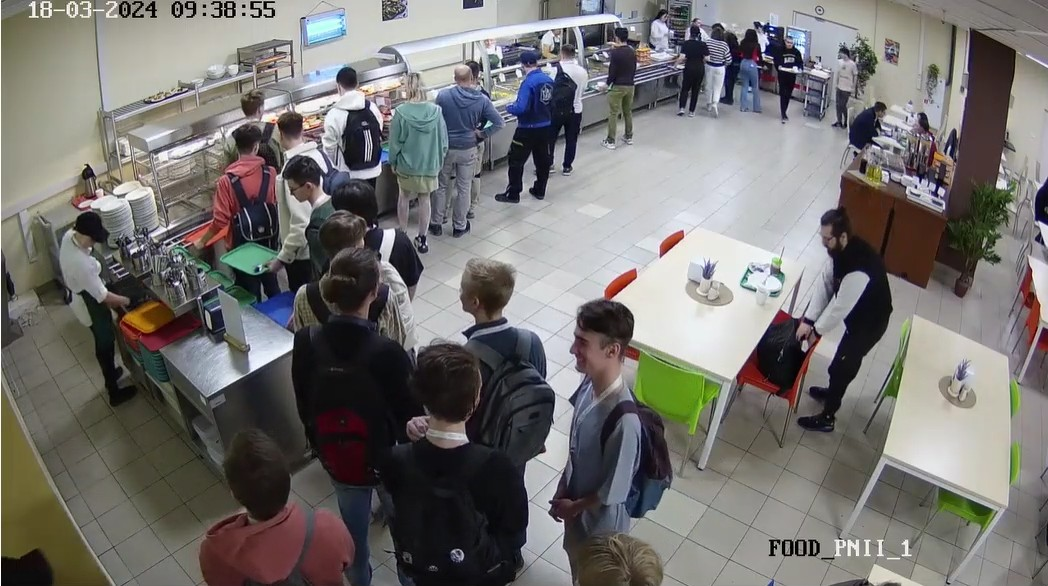Na_Kasse: (678, 31, 702, 113), (706, 22, 726, 120), (724, 17, 743, 106), (778, 36, 798, 120), (739, 30, 759, 109)
Ne_v_Ocheredi: (284, 251, 405, 586), (395, 347, 525, 586), (551, 299, 679, 534), (189, 423, 357, 586), (455, 262, 555, 475), (800, 203, 872, 431), (297, 208, 390, 269), (566, 532, 669, 586), (335, 176, 380, 240), (831, 49, 852, 126)
Personal: (46, 205, 144, 413), (643, 2, 673, 48), (535, 18, 570, 55), (474, 26, 508, 64), (685, 10, 702, 29)
Vybiraet: (202, 120, 267, 276), (264, 106, 328, 256), (501, 53, 562, 197), (390, 67, 437, 251), (438, 58, 475, 244), (326, 59, 380, 181), (463, 60, 495, 214), (283, 156, 327, 262), (603, 27, 635, 145), (557, 45, 583, 180), (235, 86, 273, 155)
Za_Stolom: (840, 105, 882, 163), (905, 110, 936, 153), (1035, 166, 1048, 248)
